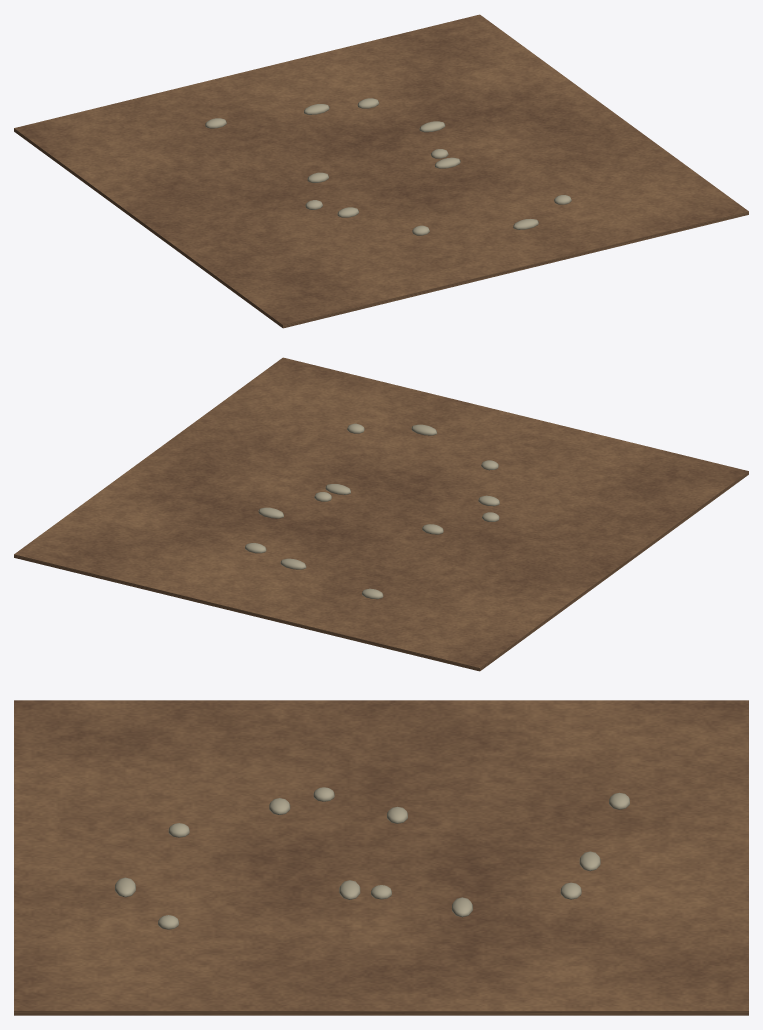
Rendered from path.glb.
The picture shows the model from 3 angles, top to bottom: view 1: azimuth 30°, elevation 25°; view 2: azimuth 150°, elevation 25°; view 3: azimuth 270°, elevation 25°; orthographic projection. The views are drawn at different scales.
Parts seen in each view (by area): view 1: compacted_soil_path, path_warm_lime_concrete; view 2: compacted_soil_path, path_warm_lime_concrete; view 3: compacted_soil_path, path_warm_lime_concrete.
Boxes of the visible parts, x1,y1,x2,y2 form: compacted_soil_path: (14,14,748,328); path_warm_lime_concrete: (205,98,571,235); compacted_soil_path: (14,357,748,671); path_warm_lime_concrete: (245,423,499,599); compacted_soil_path: (14,700,748,1015); path_warm_lime_concrete: (115,787,629,929).
Size of the model in its own units: 2 by 0.037 by 2.
Materials: 2 (1 with a texture image).
